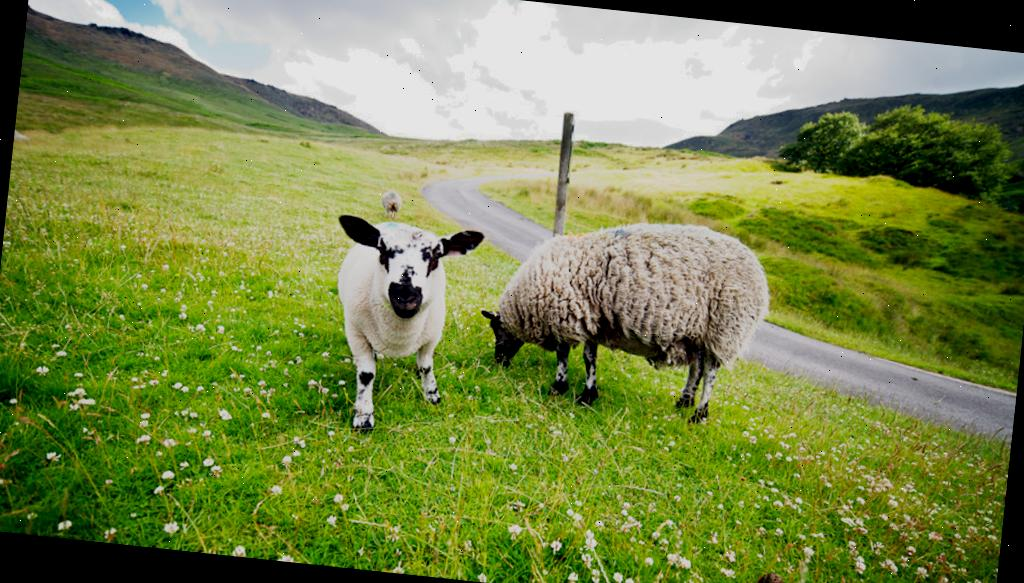Sheep: (473, 200, 781, 432), (314, 214, 486, 444), (378, 184, 406, 220)
